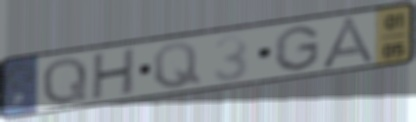3: (212, 32, 251, 83)
A: (317, 14, 380, 71)
G: (271, 24, 322, 73)
H: (89, 46, 138, 103)
Q: (151, 40, 204, 91), (40, 55, 89, 107)
